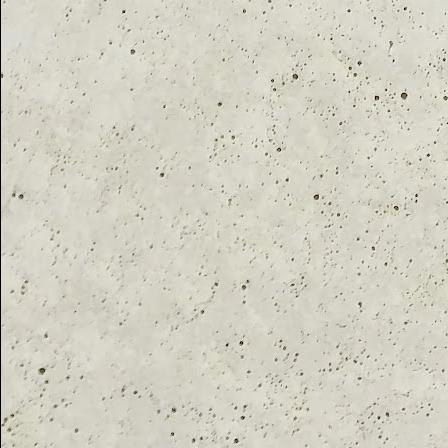spalling: (33, 366, 48, 377)
